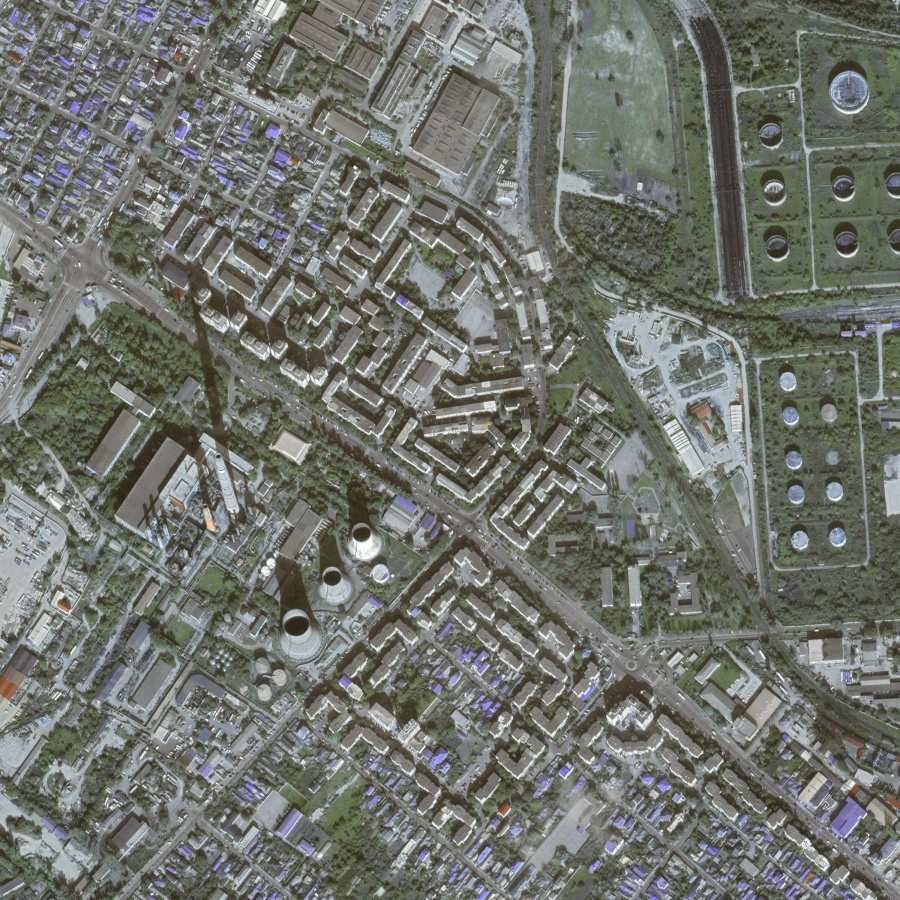PowerPlant: (122, 344, 408, 688)
